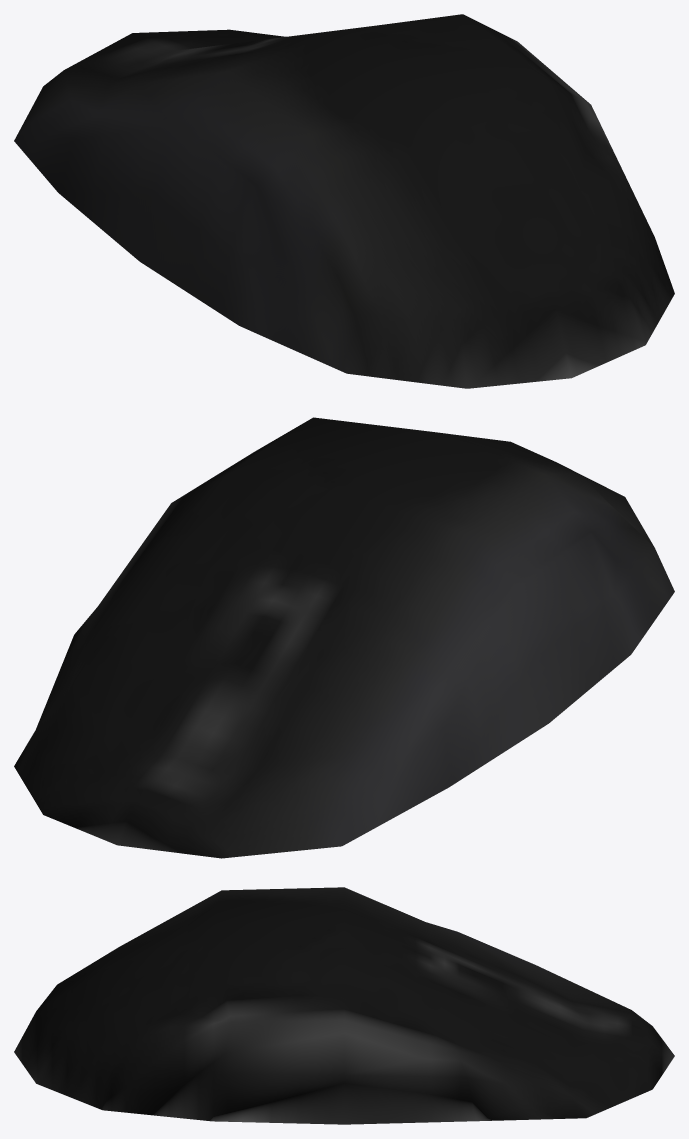
File: Mouse1.FBX
3 views of the same model, one above another, from view 1: azimuth 30°, elevation 25°; view 2: azimuth 150°, elevation 25°; view 3: azimuth 270°, elevation 25° (orthographic). The views are drawn at different scales.
Parts seen in each view (by area): view 1: Mouse; view 2: Mouse; view 3: Mouse.
Part boxes in pixels (box(x1,y1,x2,y2)): Mouse: box(14, 14, 674, 388); Mouse: box(14, 417, 674, 858); Mouse: box(14, 887, 674, 1124).
Size of the model in its own units: 1.83 by 0.8208 by 3.51.
